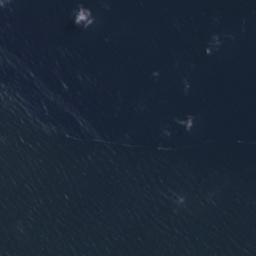Marine Debris: (0, 82, 85, 145), (92, 136, 144, 150), (237, 140, 245, 144)
